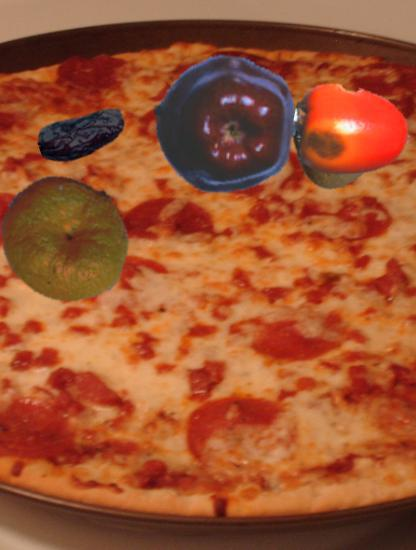Apple: (153, 54, 296, 197)
Dates: (38, 90, 129, 181)
Kaki: (292, 74, 410, 192)
Kiwi: (282, 93, 379, 190)
Mandarine: (0, 172, 134, 306)
